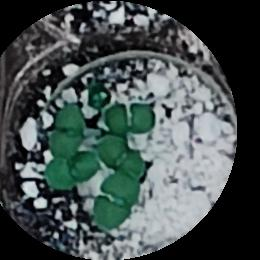Basil: (95, 171, 138, 227), (48, 101, 82, 156), (45, 150, 93, 187), (100, 139, 148, 176), (106, 103, 157, 134)
